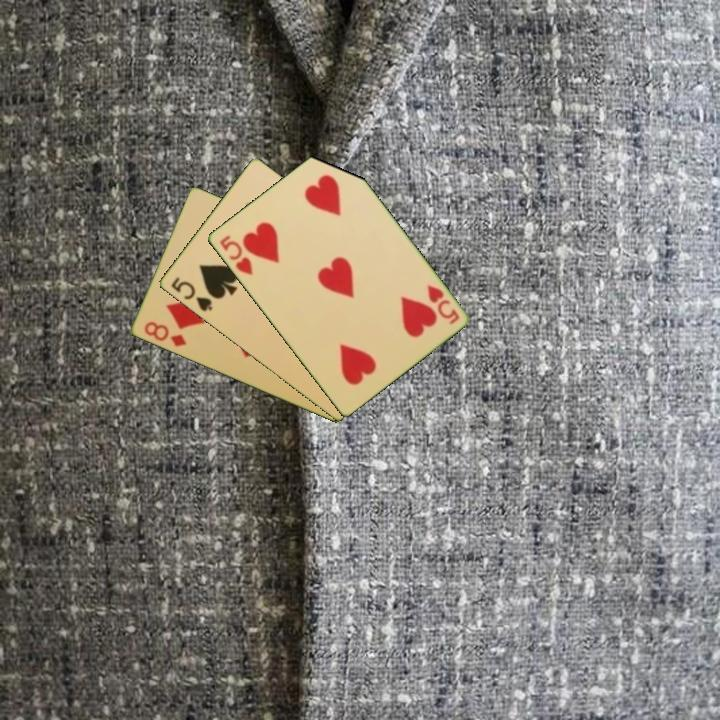5h: (216, 231, 255, 278), (423, 281, 462, 327)
5s: (167, 274, 215, 314)
8d: (140, 318, 189, 350)
